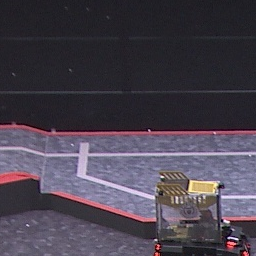Robot: (152, 168, 250, 256)
